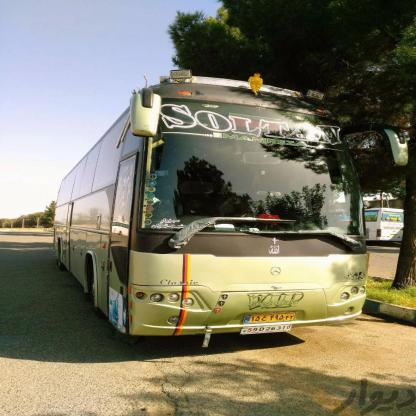Bus: (37, 71, 389, 341)
